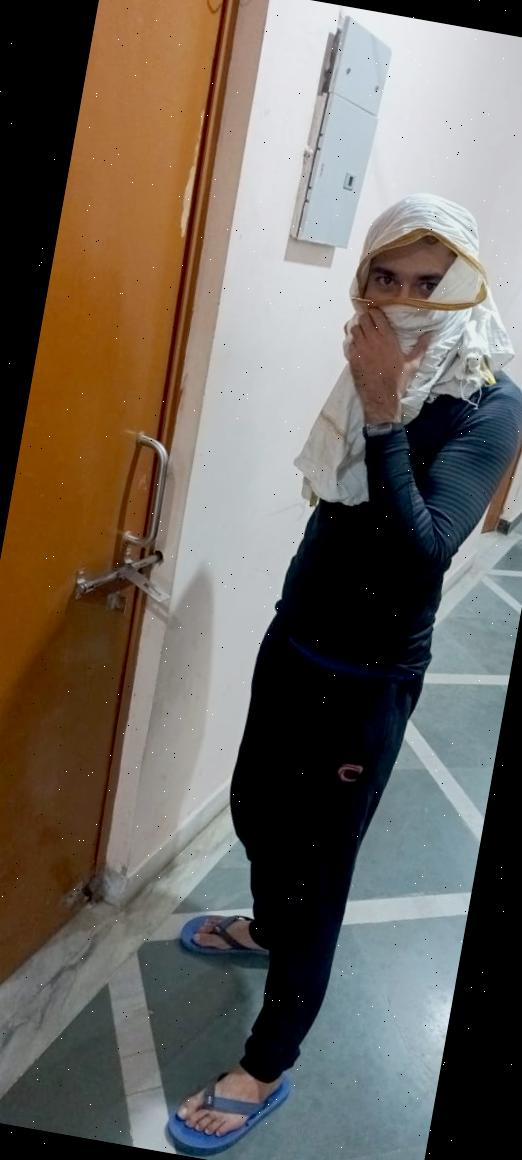suspicion: (100, 152, 522, 1160)
